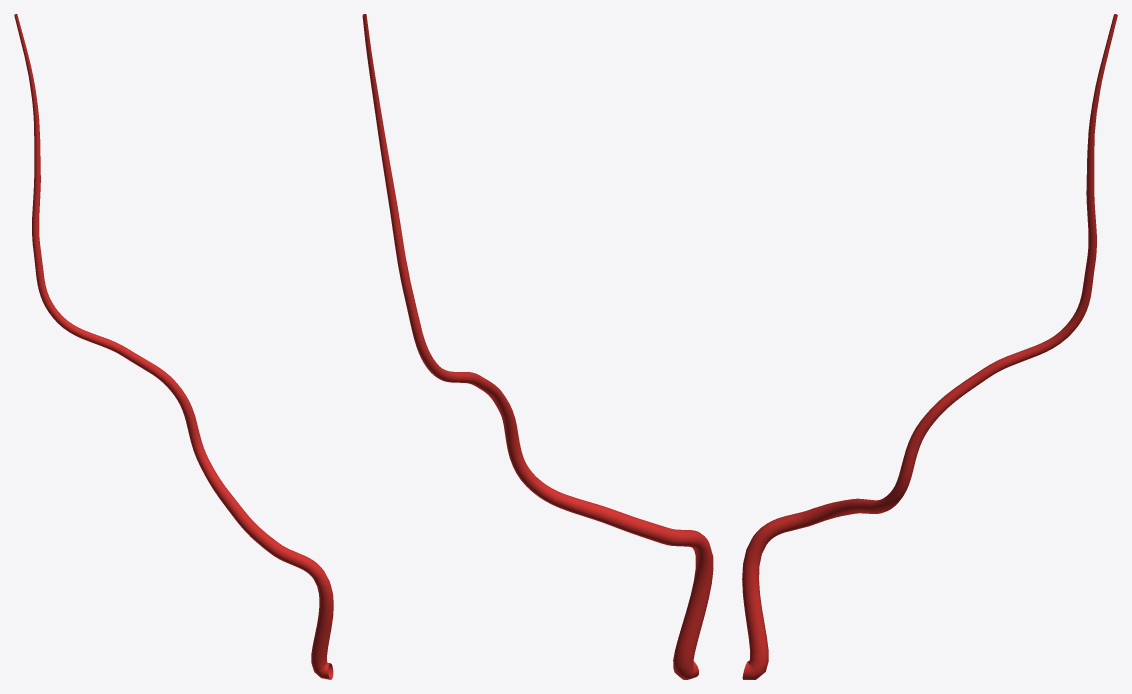
File: circulatorio-deep-cervical-artery-r.glb
3 views of the same model, side by side, from view 1: azimuth 90°, elevation 25°; view 2: azimuth 150°, elevation 25°; view 3: azimuth 270°, elevation 25° (orthographic). The views are drawn at different scales.
Parts seen in each view (by area): view 1: Deep cervical artery.r; view 2: Deep cervical artery.r; view 3: Deep cervical artery.r.
Boxes of the visible parts, bbox=[...] form: Deep cervical artery.r: bbox=[14, 14, 333, 679]; Deep cervical artery.r: bbox=[362, 14, 713, 679]; Deep cervical artery.r: bbox=[742, 14, 1117, 679].
Bounding box in the file's own units: 0.0169 × 0.0802 × 0.0378.
